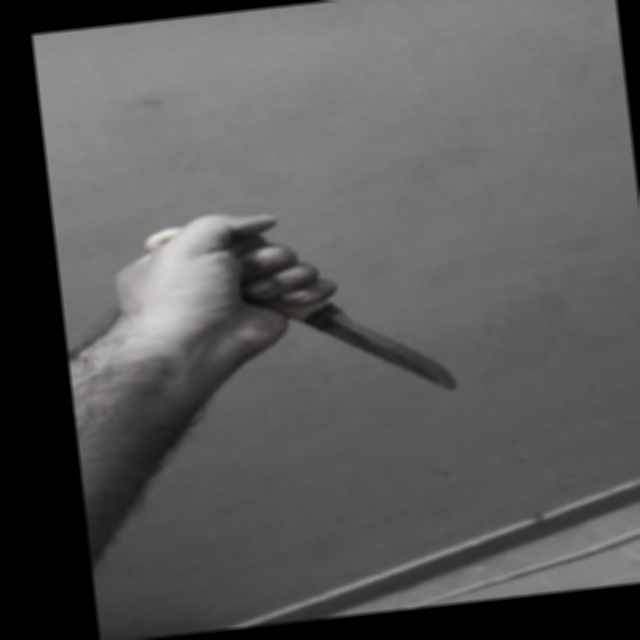Sharp-Object: (144, 199, 457, 422)
